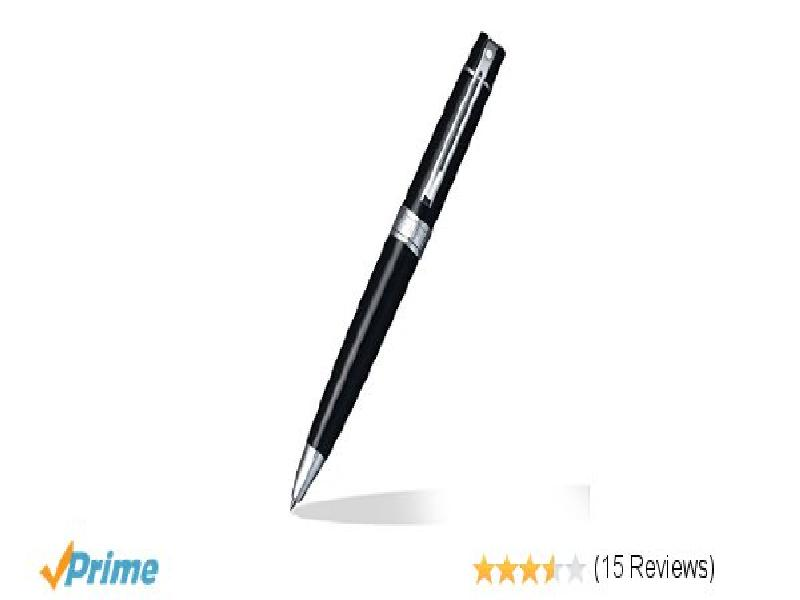pen: (282, 22, 507, 515)
